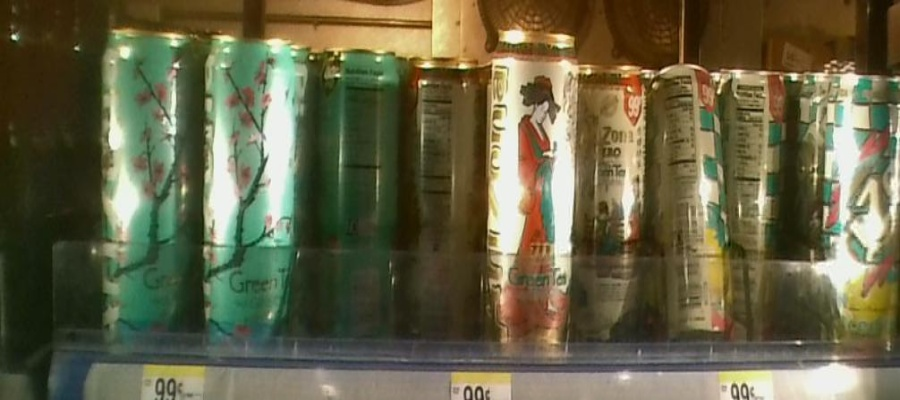bottle: (200, 17, 303, 386), (93, 13, 199, 356), (485, 17, 580, 368), (314, 31, 402, 357), (405, 39, 483, 364), (654, 57, 726, 365), (827, 54, 896, 374), (581, 48, 650, 366), (726, 49, 794, 355)
